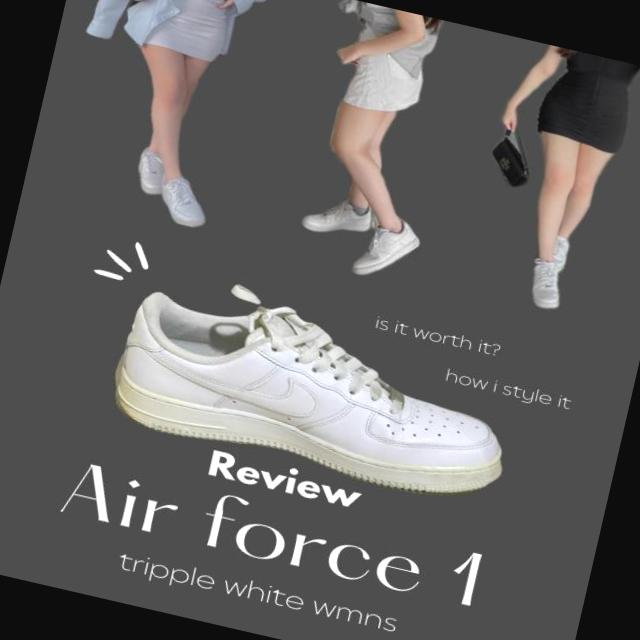nike_original_airforce: (99, 278, 524, 514)
